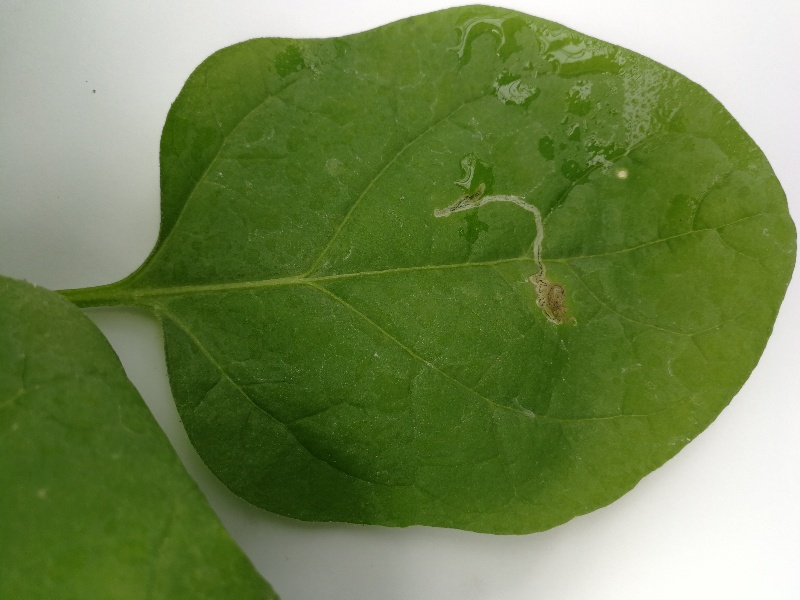leafminer: (425, 187, 584, 328)
